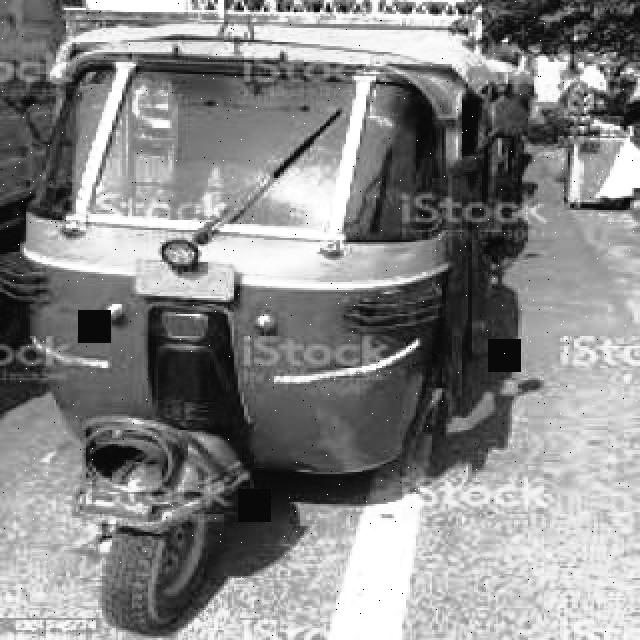Auto-Rickshaw: (20, 6, 518, 620)
